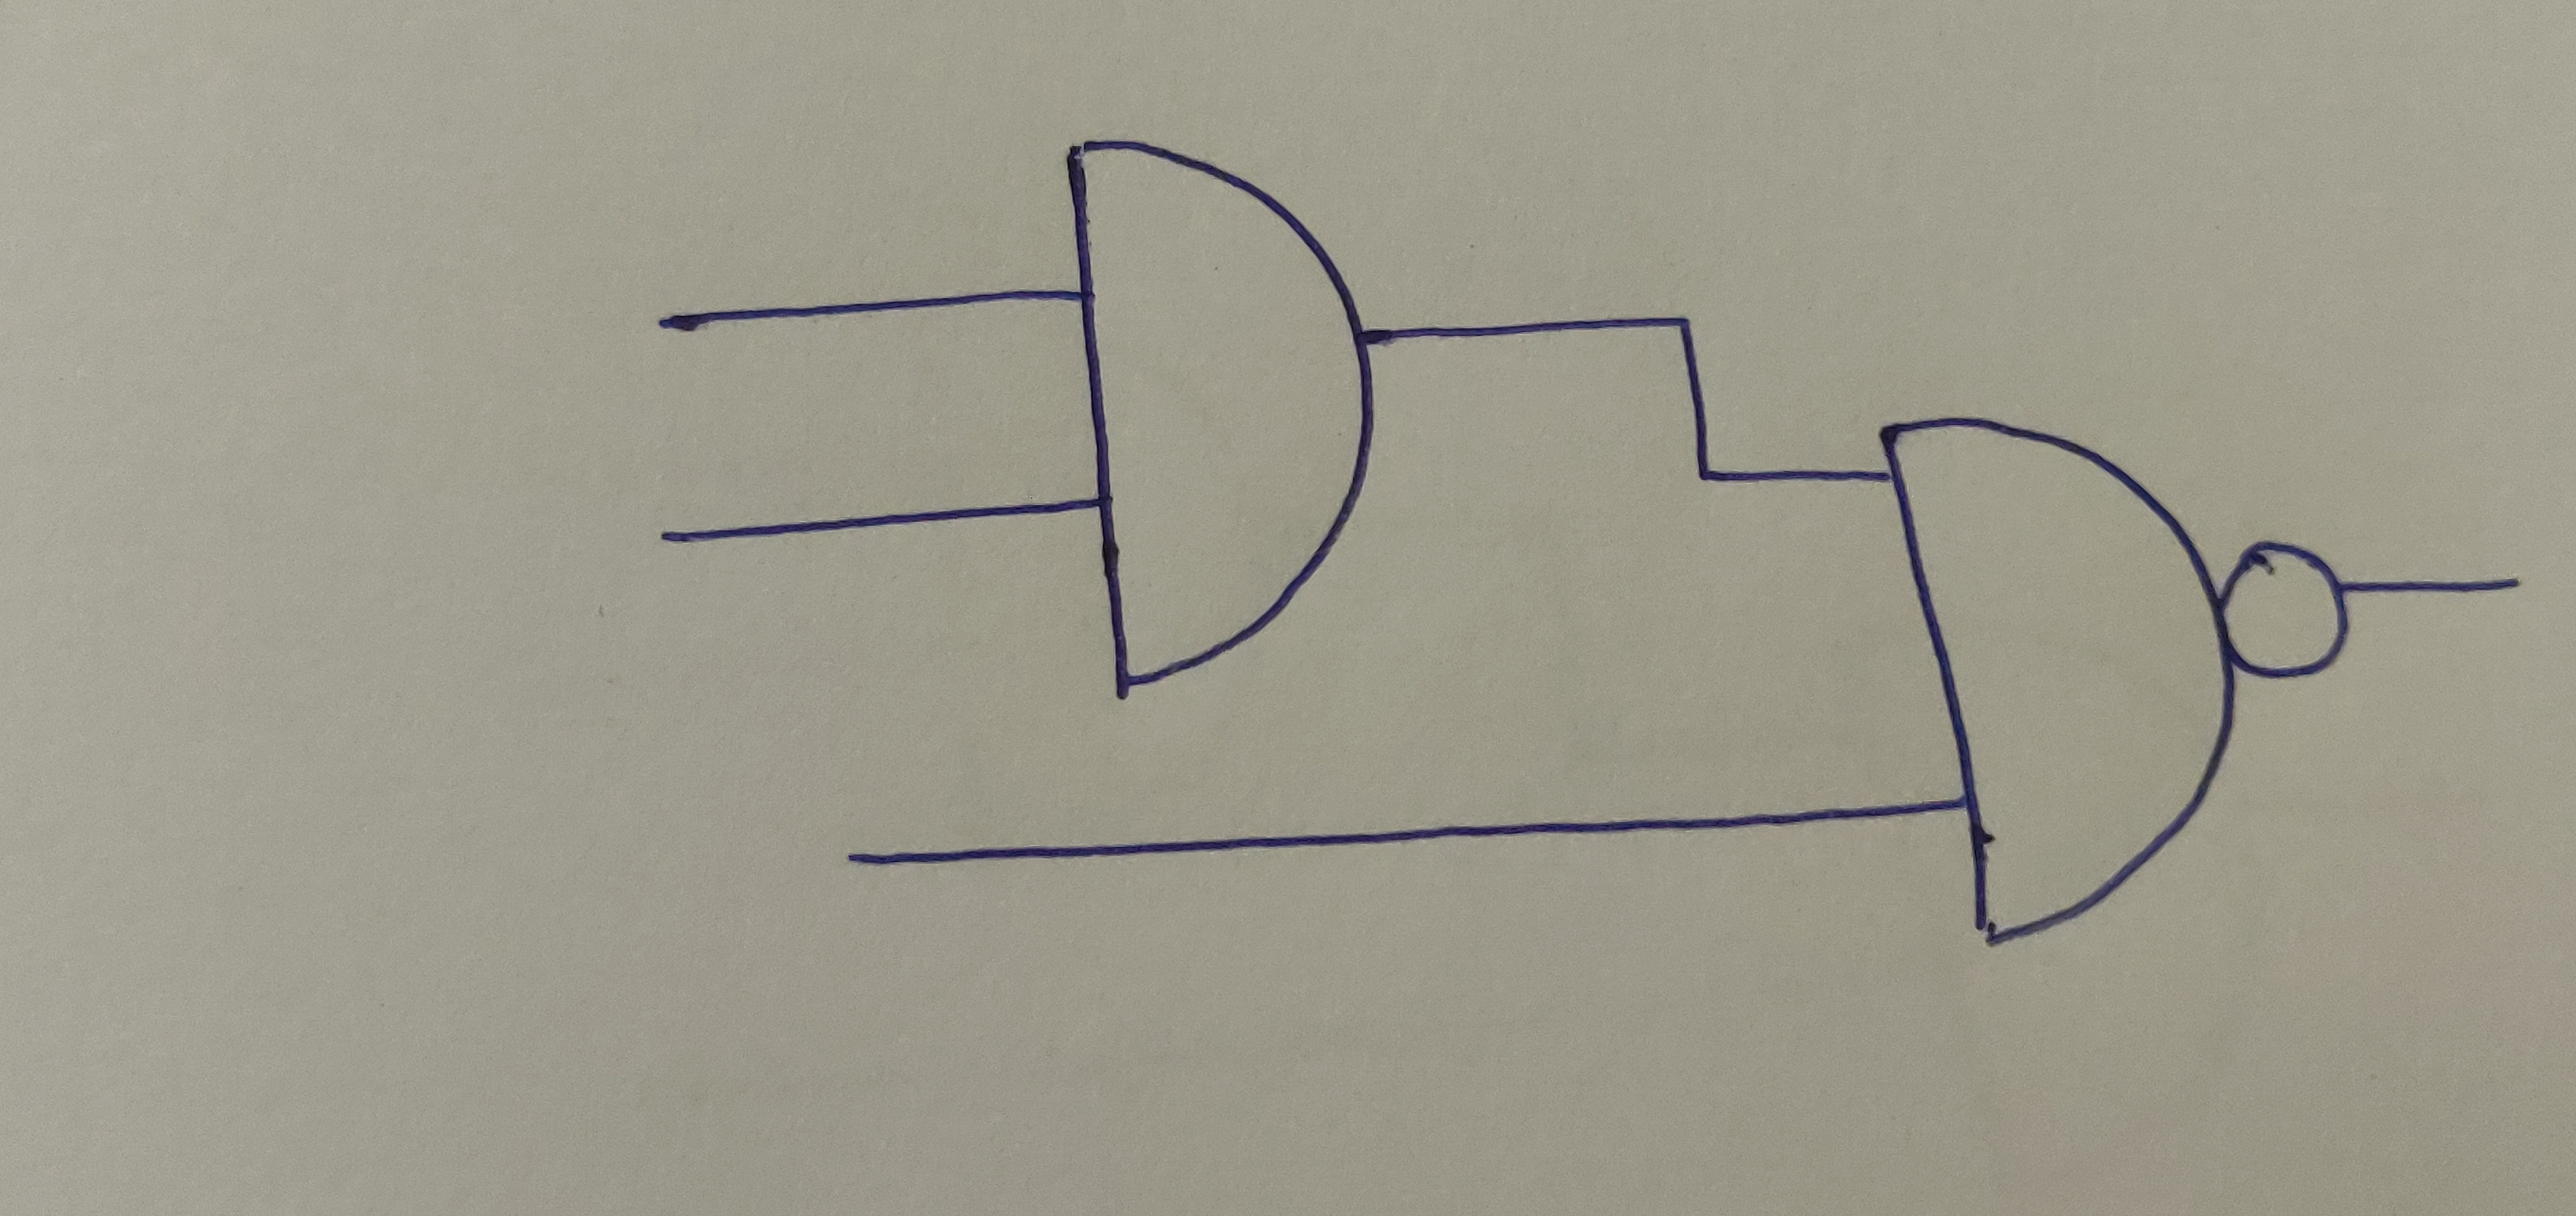and: (1883, 414, 2231, 948), (1063, 135, 1377, 690)
not: (2221, 544, 2349, 680)
